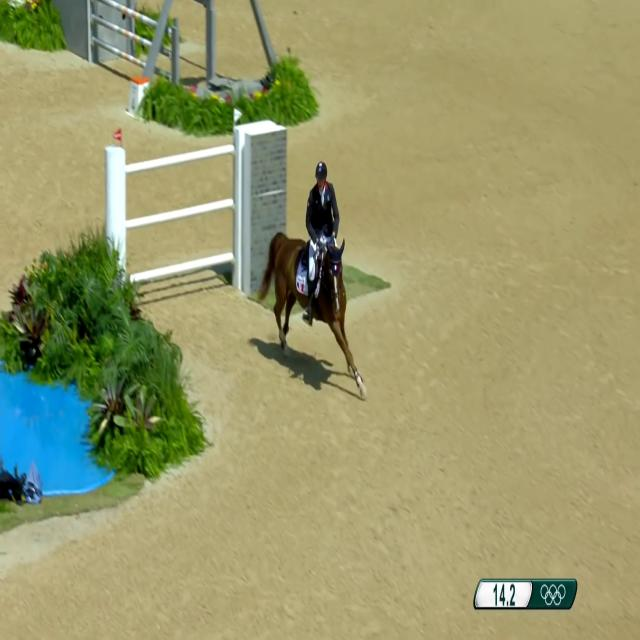Horse Rider: (304, 135, 348, 315)
Horse Running: (259, 210, 367, 394)
